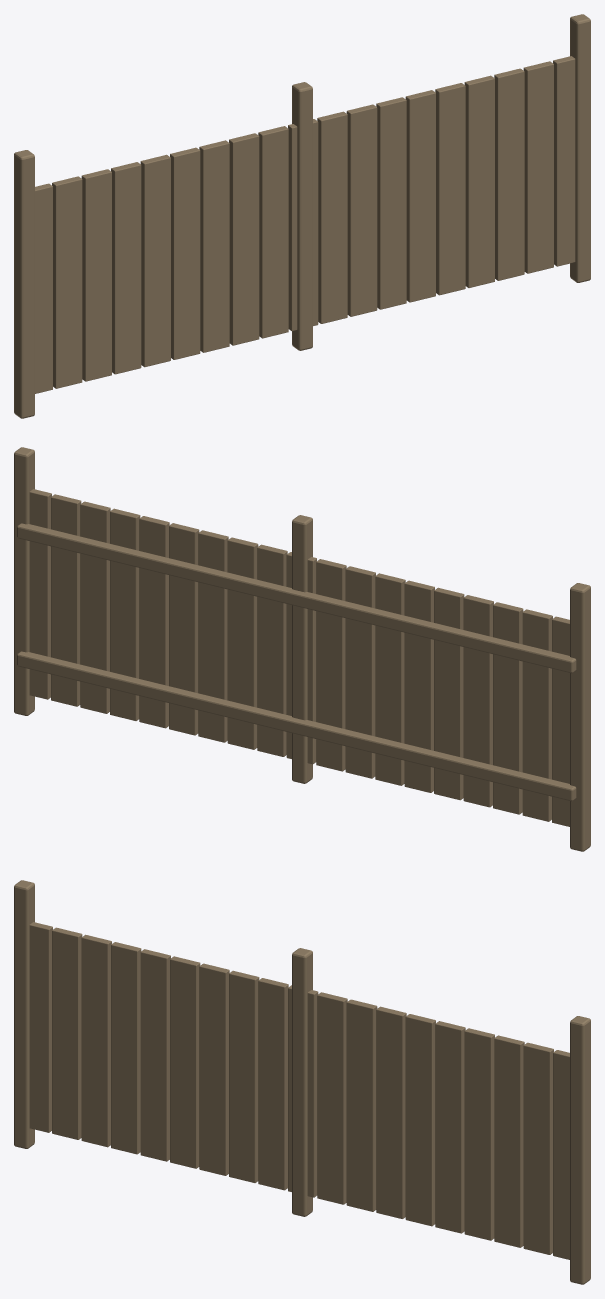
File: yard_fence.glb
3 renders of one model, top to bottom at view 1: azimuth 30°, elevation 25°; view 2: azimuth 150°, elevation 25°; view 3: azimuth 330°, elevation 25°, orthographic.
Parts seen in each view (by area): view 1: yard_fence; view 2: yard_fence; view 3: yard_fence.
Part boxes in pixels (bbox=[...]): yard_fence: bbox=[14, 14, 590, 418]; yard_fence: bbox=[14, 447, 590, 851]; yard_fence: bbox=[14, 880, 590, 1284].
Bounding box in the file's own units: 5.13 × 2.25 × 0.19.
